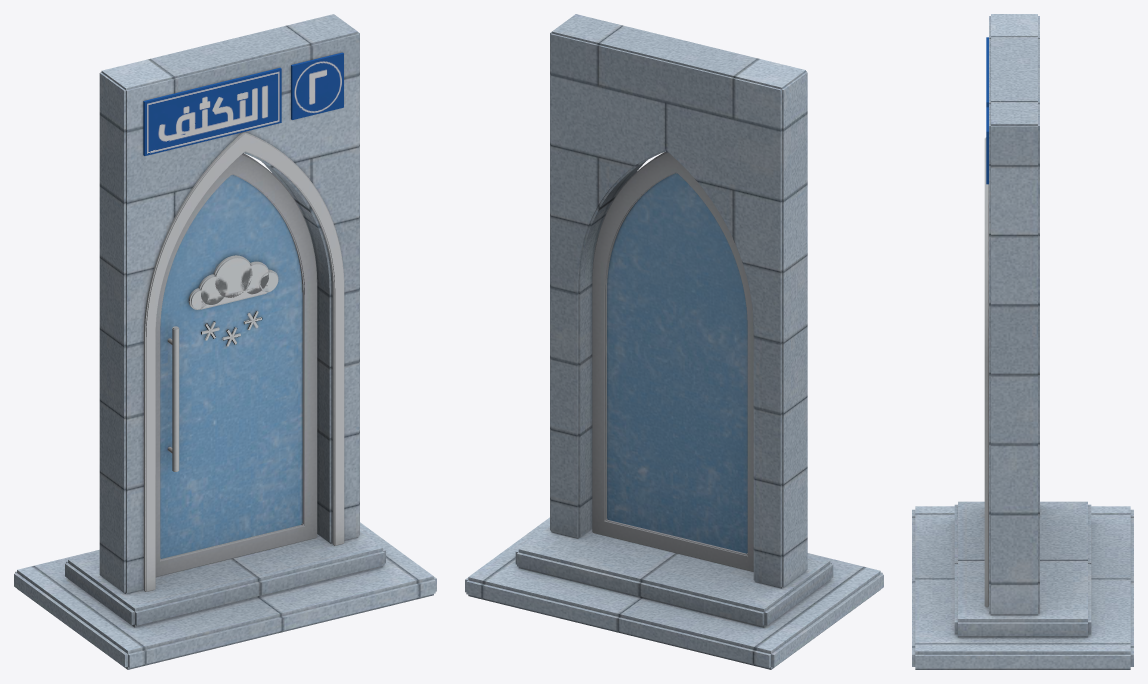
Rendered from door-condensation.glb.
3 renders of one model, left to right at view 1: azimuth 30°, elevation 25°; view 2: azimuth 150°, elevation 25°; view 3: azimuth 270°, elevation 25°, orthographic. The views are drawn at different scales.
Visible parts, largest first — view 1: frame, leaf, sign; view 2: frame, leaf; view 3: frame, sign.
Part boxes in pixels (x1,y1,x2,y2): frame: (14, 14, 436, 669); leaf: (155, 153, 317, 576); sign: (143, 52, 343, 155); frame: (465, 14, 883, 669); leaf: (592, 152, 753, 571); frame: (912, 14, 1133, 669); sign: (986, 37, 988, 184).
Size of the model in its own units: 2.05 by 3.42 by 1.3.
Materials: 2 (2 with a texture image).
